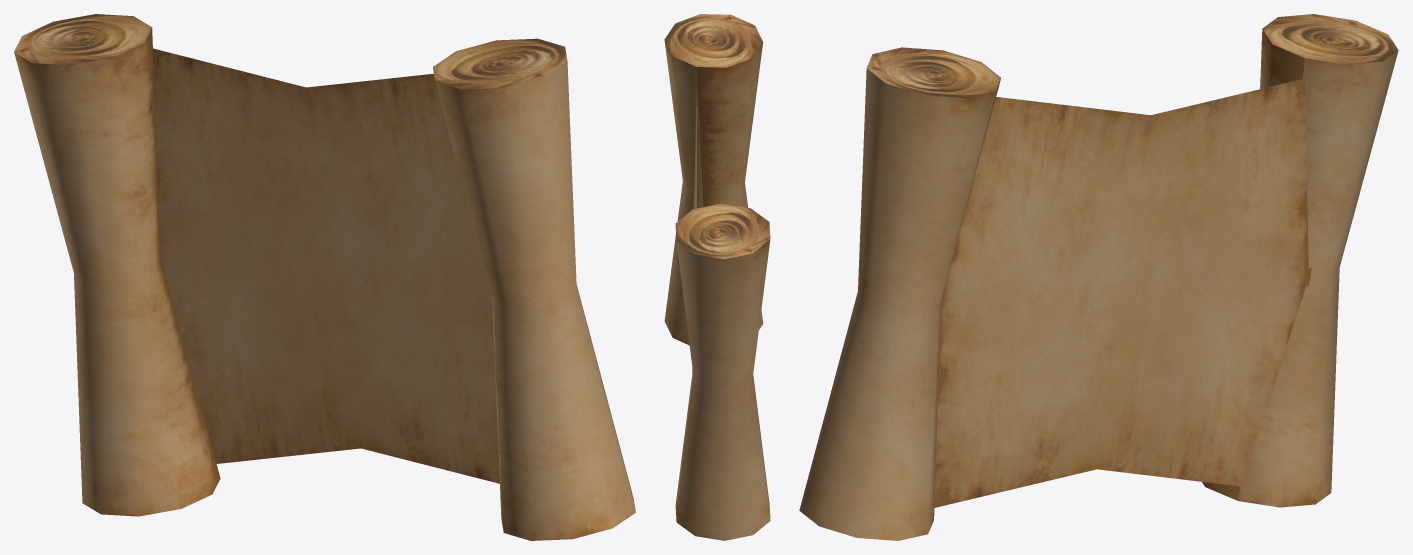
The model's file is scroll02.FBX.
The picture shows the model from 3 angles, left to right: view 1: azimuth 30°, elevation 25°; view 2: azimuth 150°, elevation 25°; view 3: azimuth 270°, elevation 25°; orthographic projection. The views are drawn at different scales.
Parts seen in each view (by area): view 1: scroll02; view 2: scroll02; view 3: scroll02.
Boxes of the visible parts, bbox=[...] form: scroll02: bbox=[14, 14, 635, 540]; scroll02: bbox=[664, 14, 770, 540]; scroll02: bbox=[799, 14, 1398, 540].
Size of the model in its own units: 0.4954 by 0.6758 by 0.7116.
